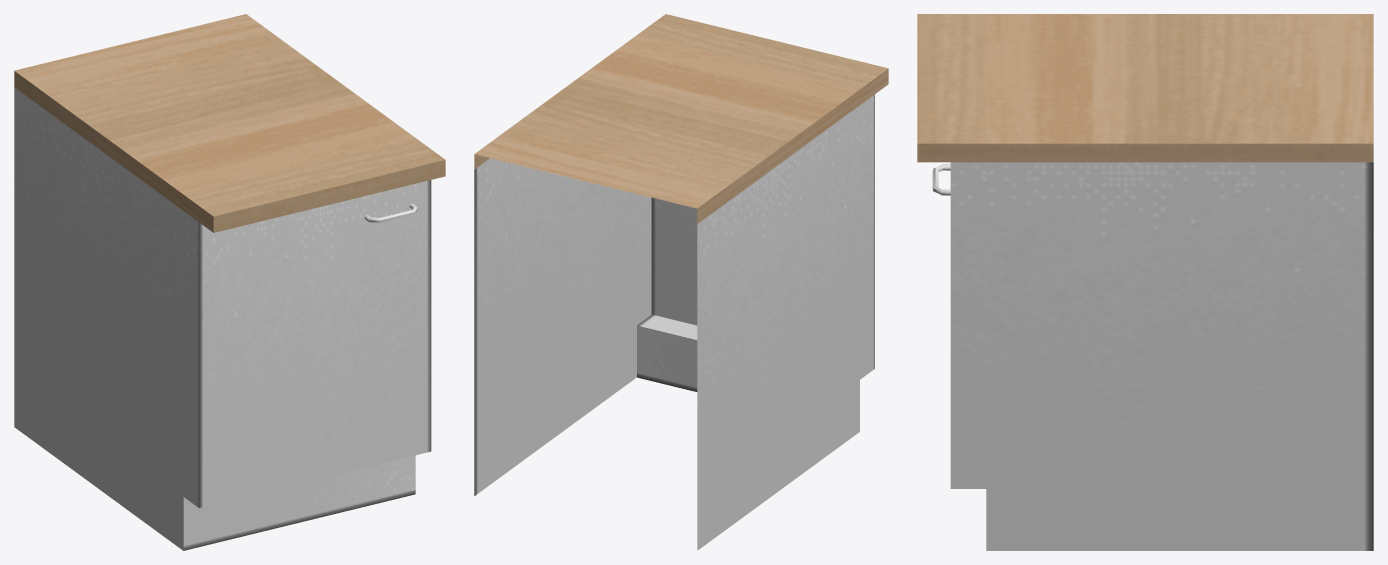
File: Kitchen_Counter_Left.fbx
3 renders of one model, left to right at view 1: azimuth 30°, elevation 25°; view 2: azimuth 150°, elevation 25°; view 3: azimuth 270°, elevation 25°, orthographic. The views are drawn at different scales.
Visible parts, largest first — view 1: Cuisine_Comptoir_Droite.002; view 2: Cuisine_Comptoir_Droite.002; view 3: Cuisine_Comptoir_Droite.002.
Boxes of the visible parts, left/top/right/bottom form: Cuisine_Comptoir_Droite.002: left=14, top=14, right=445, bottom=550; Cuisine_Comptoir_Droite.002: left=474, top=14, right=888, bottom=550; Cuisine_Comptoir_Droite.002: left=917, top=14, right=1373, bottom=550.
Bounding box in the file's own units: 60 × 88 × 89.27.
